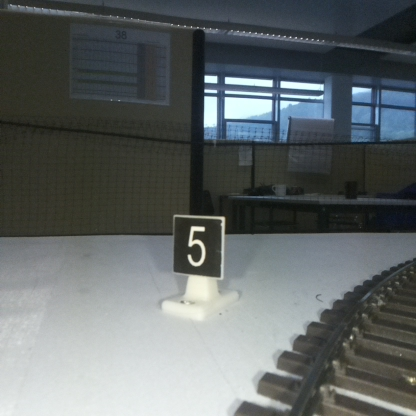black-stop-5: (173, 218, 223, 313)
